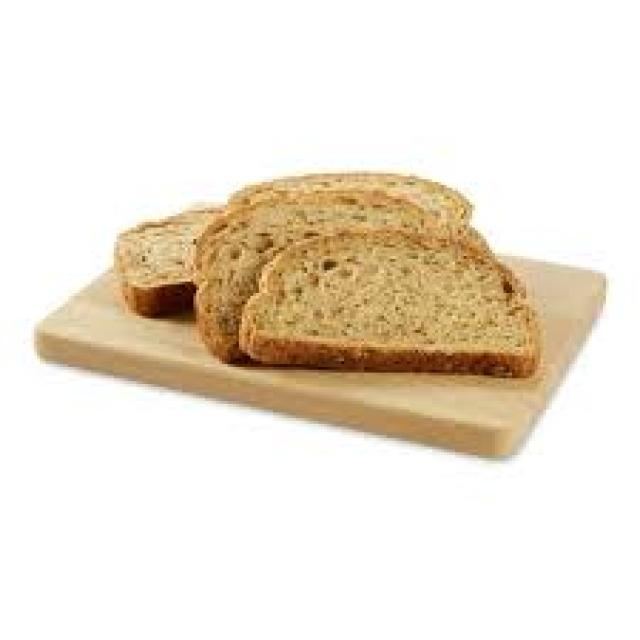Bread: (241, 228, 539, 376)
